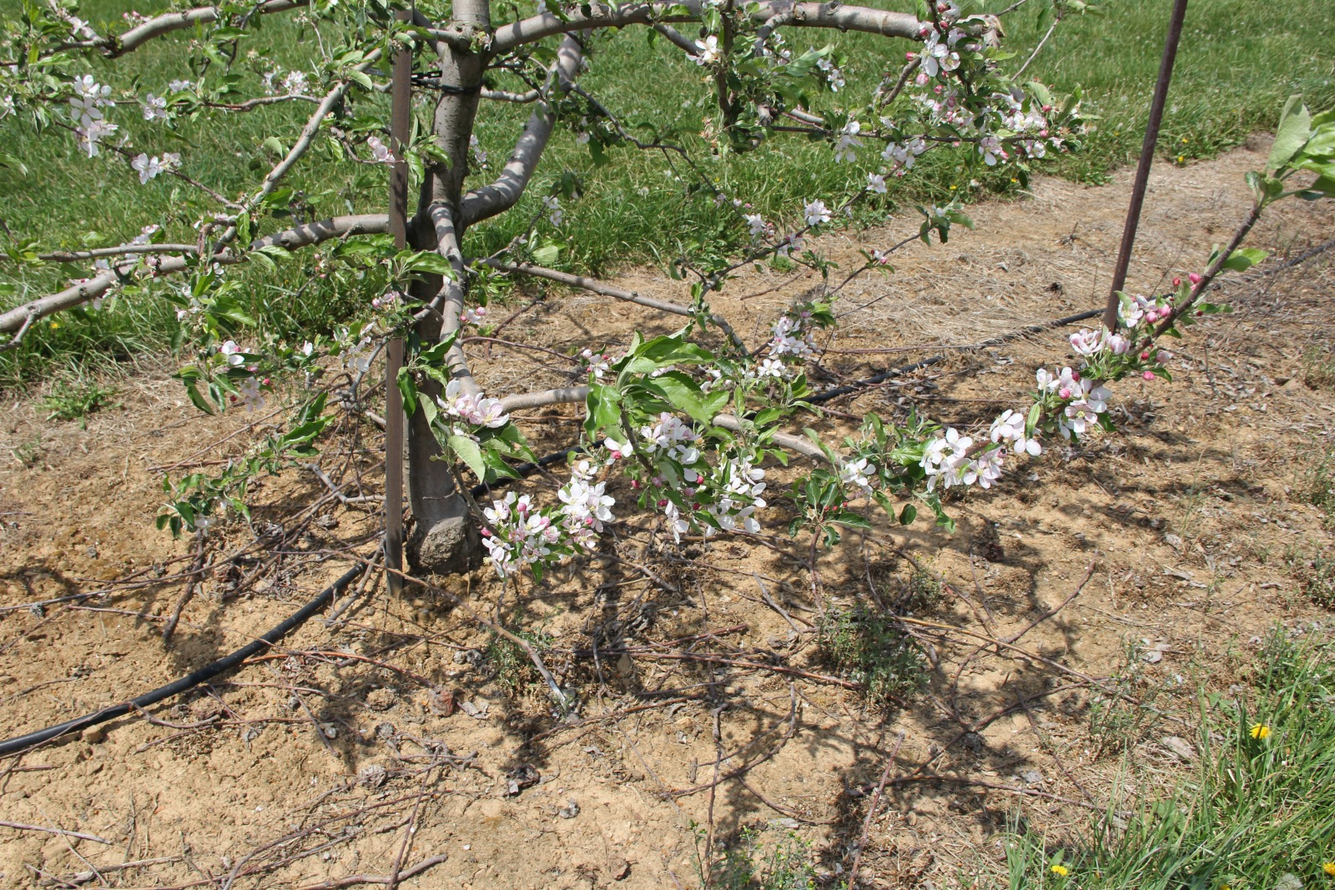flower: (919, 427, 1009, 494), (1036, 367, 1113, 440), (558, 461, 616, 551), (70, 74, 123, 158), (436, 378, 510, 428), (513, 494, 562, 564), (906, 28, 962, 88), (990, 410, 1041, 456), (723, 455, 767, 508), (642, 412, 703, 449), (924, 84, 975, 126), (993, 94, 1047, 133), (768, 317, 818, 358), (708, 499, 761, 535), (1118, 294, 1173, 328), (481, 527, 515, 578), (132, 153, 181, 185), (881, 138, 926, 169), (839, 458, 876, 495), (834, 121, 864, 164), (662, 500, 690, 545), (484, 491, 516, 528), (686, 36, 723, 66), (237, 377, 265, 413), (1070, 329, 1104, 356), (979, 136, 1009, 166), (581, 349, 609, 378), (367, 135, 395, 163), (804, 198, 832, 226), (140, 93, 167, 122), (604, 438, 633, 465), (280, 71, 310, 95), (936, 0, 961, 24), (1106, 332, 1131, 355), (758, 360, 788, 378), (743, 214, 768, 235), (675, 445, 701, 465), (469, 135, 487, 163), (866, 172, 888, 194), (461, 307, 486, 325), (348, 336, 371, 355), (345, 356, 371, 372), (948, 28, 967, 49), (1152, 350, 1174, 368), (828, 70, 845, 93), (1025, 140, 1046, 158), (785, 234, 804, 253), (503, 552, 517, 577), (169, 79, 189, 95), (222, 341, 241, 356), (544, 196, 561, 209), (550, 210, 563, 227), (1049, 137, 1066, 149), (684, 468, 698, 482), (360, 322, 375, 335), (706, 368, 723, 379), (301, 341, 313, 356), (964, 43, 982, 52), (229, 355, 244, 365), (880, 117, 893, 128), (667, 449, 678, 461), (1143, 371, 1156, 381), (685, 488, 698, 498), (652, 477, 662, 487), (646, 445, 657, 453), (1042, 105, 1051, 113), (1040, 130, 1049, 138), (1141, 353, 1150, 360), (698, 476, 704, 483), (940, 24, 944, 32)
